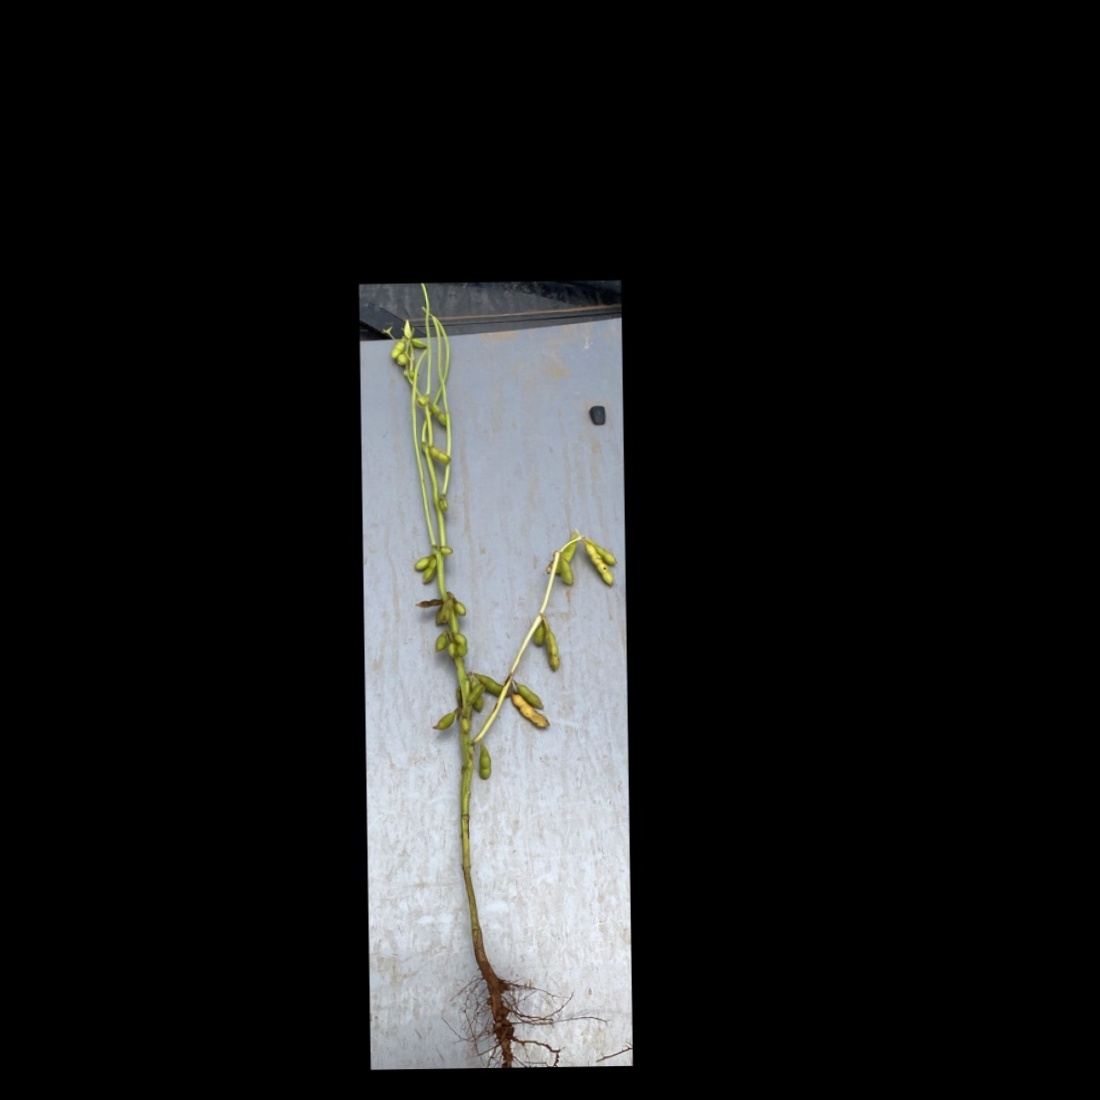pod: (431, 706, 461, 735), (544, 631, 562, 677), (424, 440, 453, 465), (559, 556, 577, 592), (474, 742, 492, 780), (431, 399, 451, 429), (429, 630, 451, 652), (412, 596, 443, 609), (455, 633, 471, 657), (409, 336, 430, 351)
soy: (377, 290, 627, 1027)
